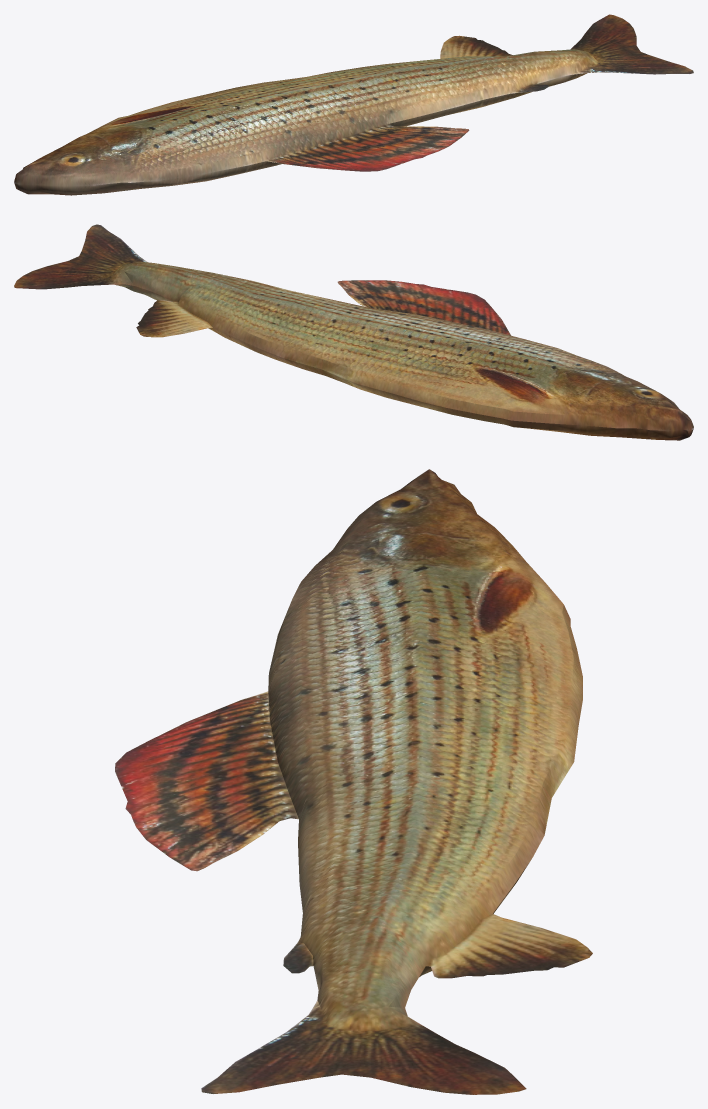
Rendered from fish.obj.
3 renders of one model, top to bottom at view 1: azimuth 30°, elevation 25°; view 2: azimuth 150°, elevation 25°; view 3: azimuth 270°, elevation 25°, orthographic. The views are drawn at different scales.
Visible parts, largest first — view 1: Regroup00; view 2: Regroup00; view 3: Regroup00.
Boxes of the visible parts, bbox=[...] form: Regroup00: bbox=[14, 14, 693, 195]; Regroup00: bbox=[14, 224, 693, 440]; Regroup00: bbox=[115, 469, 592, 1094].
Size of the model in its own units: 646 by 53.16 by 214.
